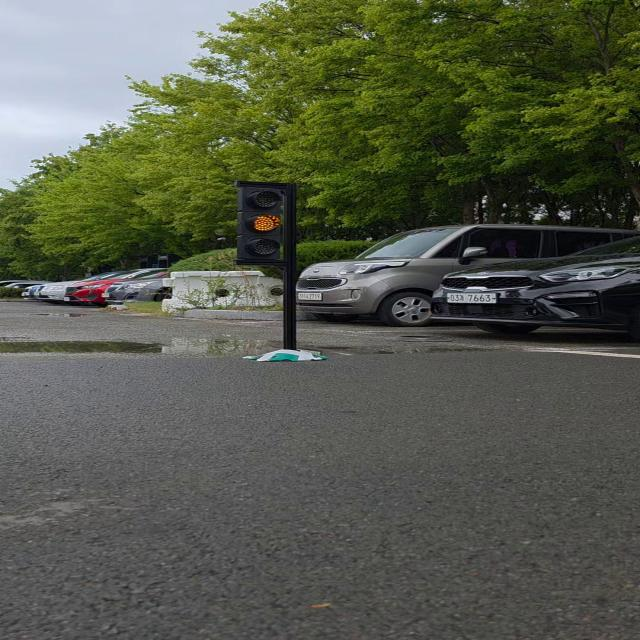yellow: (228, 177, 298, 270)
